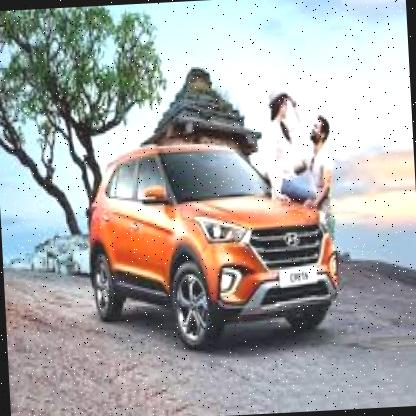car: (78, 131, 345, 358)
person: (256, 83, 320, 212), (296, 108, 343, 252)
tree: (0, 3, 162, 230)
